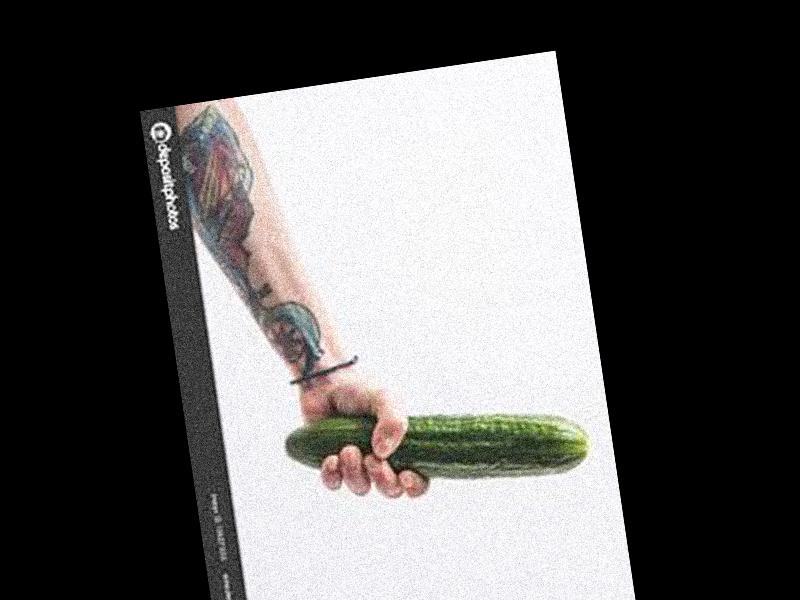Cucumber: (284, 382, 596, 512)
